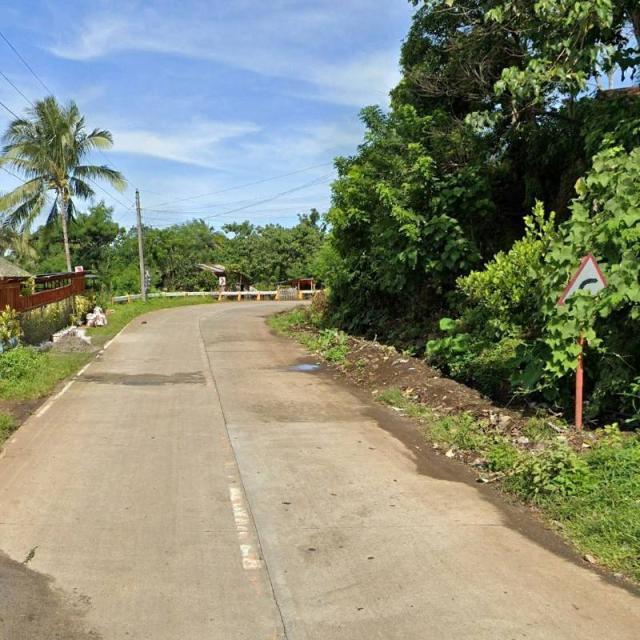warn_right_curve: (558, 252, 619, 311)
